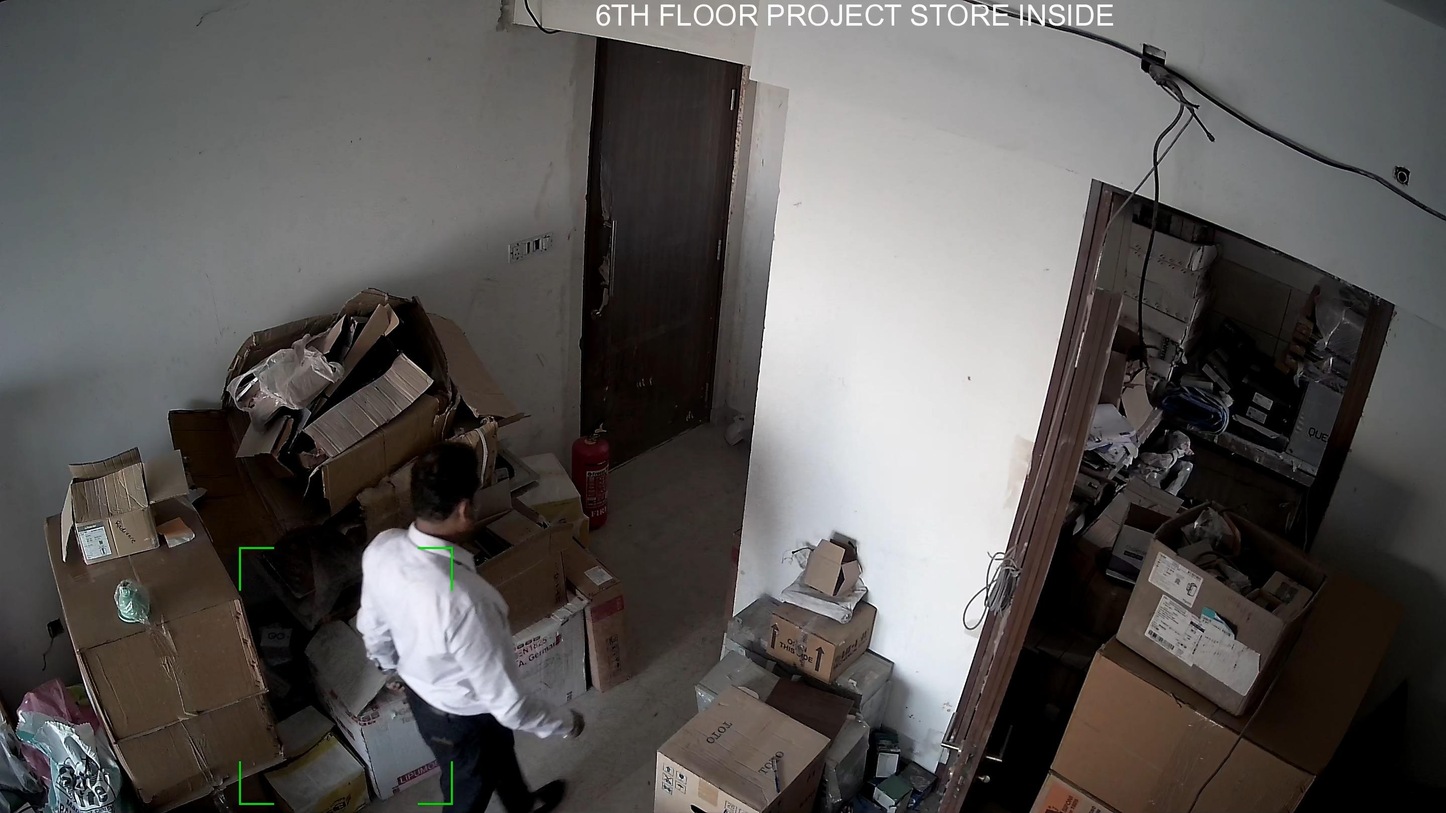Door-Close: (574, 30, 757, 497)
